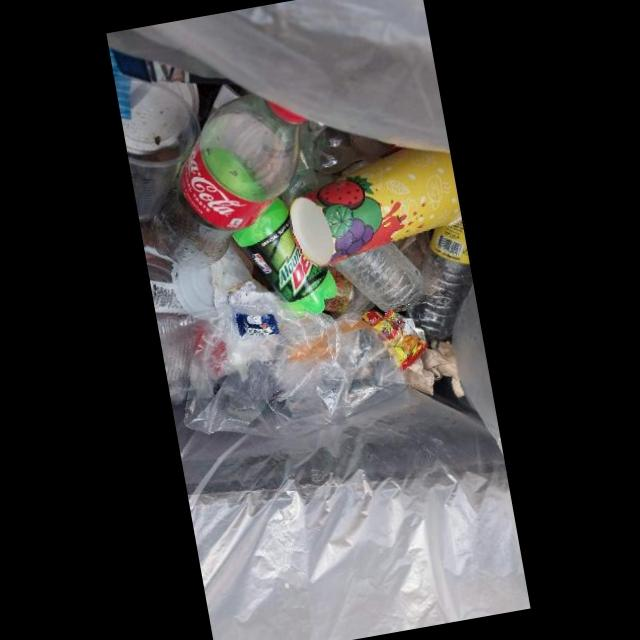bao_bi_thuc_pham: (358, 309, 428, 371), (235, 313, 279, 336)
carton: (289, 148, 462, 266)
chai_nhua: (232, 196, 337, 314)
chai_nhua_pet: (150, 92, 306, 271), (408, 222, 472, 338), (330, 242, 423, 312)
giay: (402, 340, 464, 396)
tui_ni_long: (183, 282, 404, 438)
